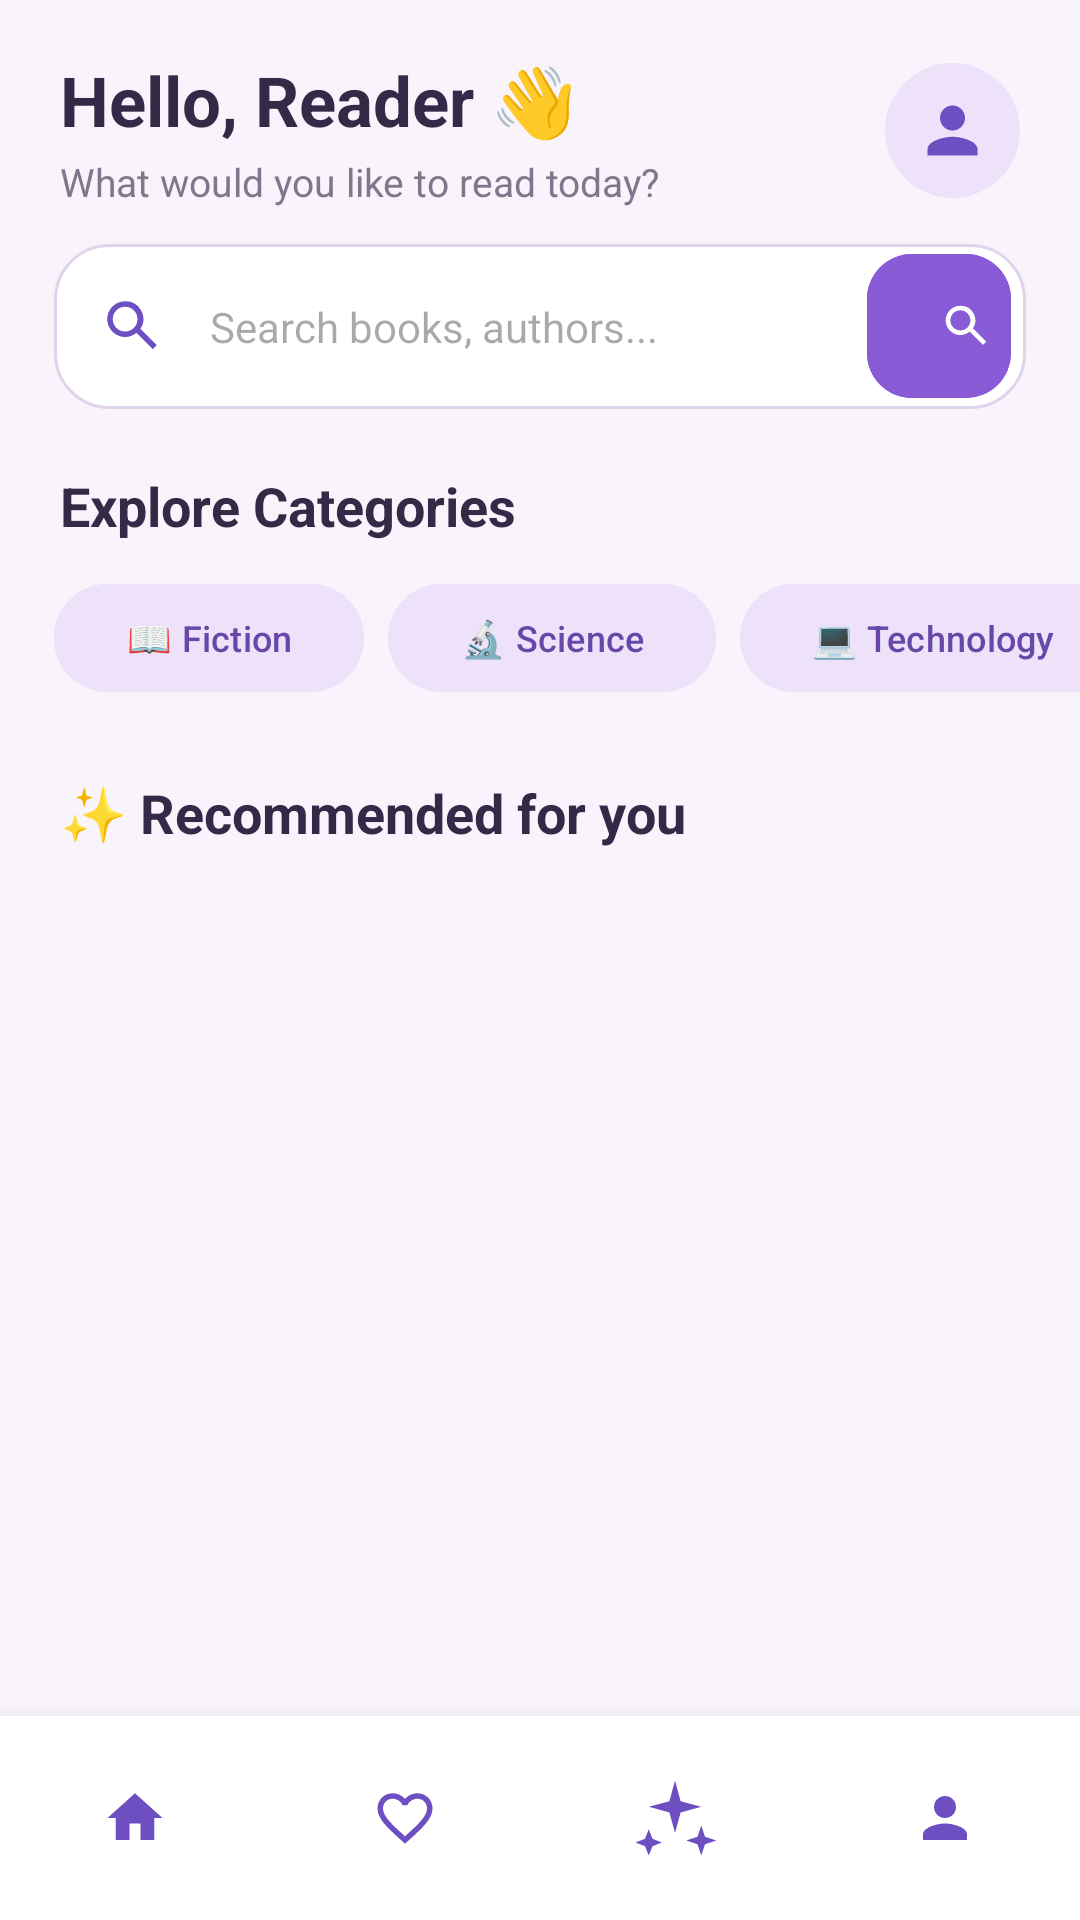

Named icons in this screenshot (1080×1920) and their bounding boxes, (x1,y1,x2,y2):
AI Assistant: (636,1781,716,1855)
Favourites: (377,1793,433,1844)
Home: (108,1793,162,1840)
Profile: (927,105,978,156), (923,1796,967,1840)
